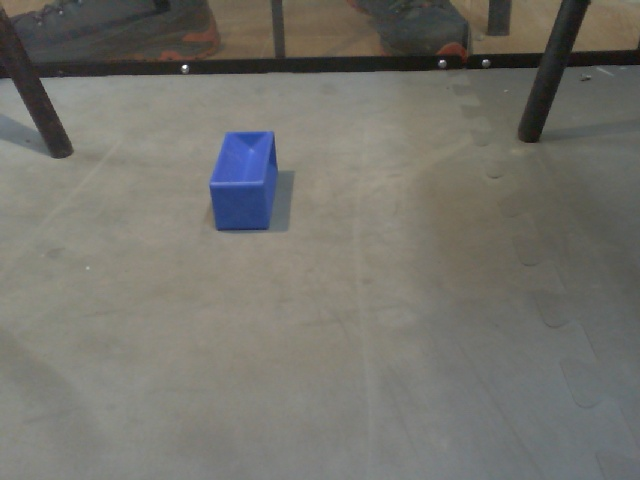BlueSample: (208, 127, 280, 234)
